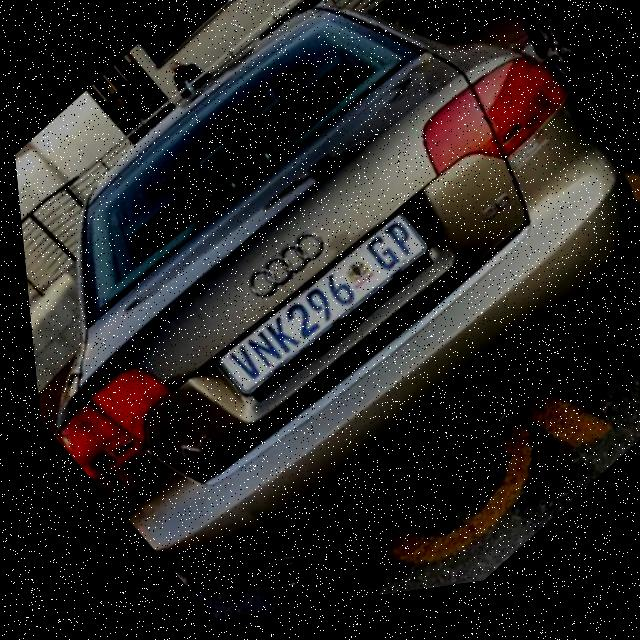license_plate: (194, 205, 437, 418)
